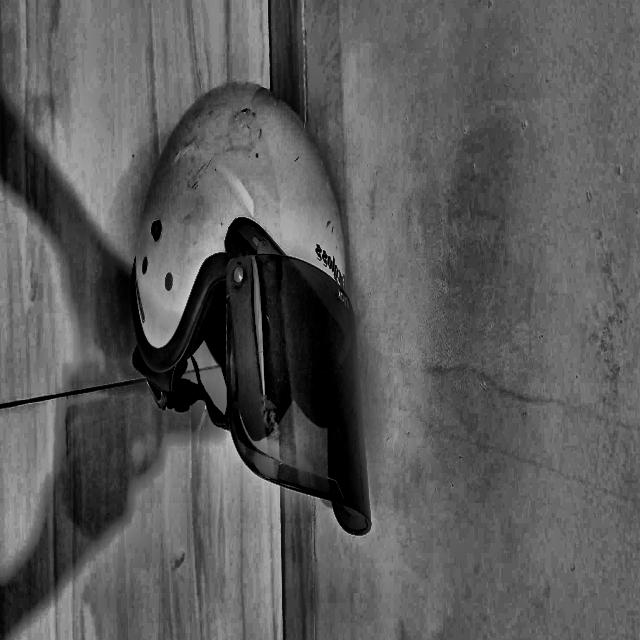Helmet: (309, 430, 588, 640)
